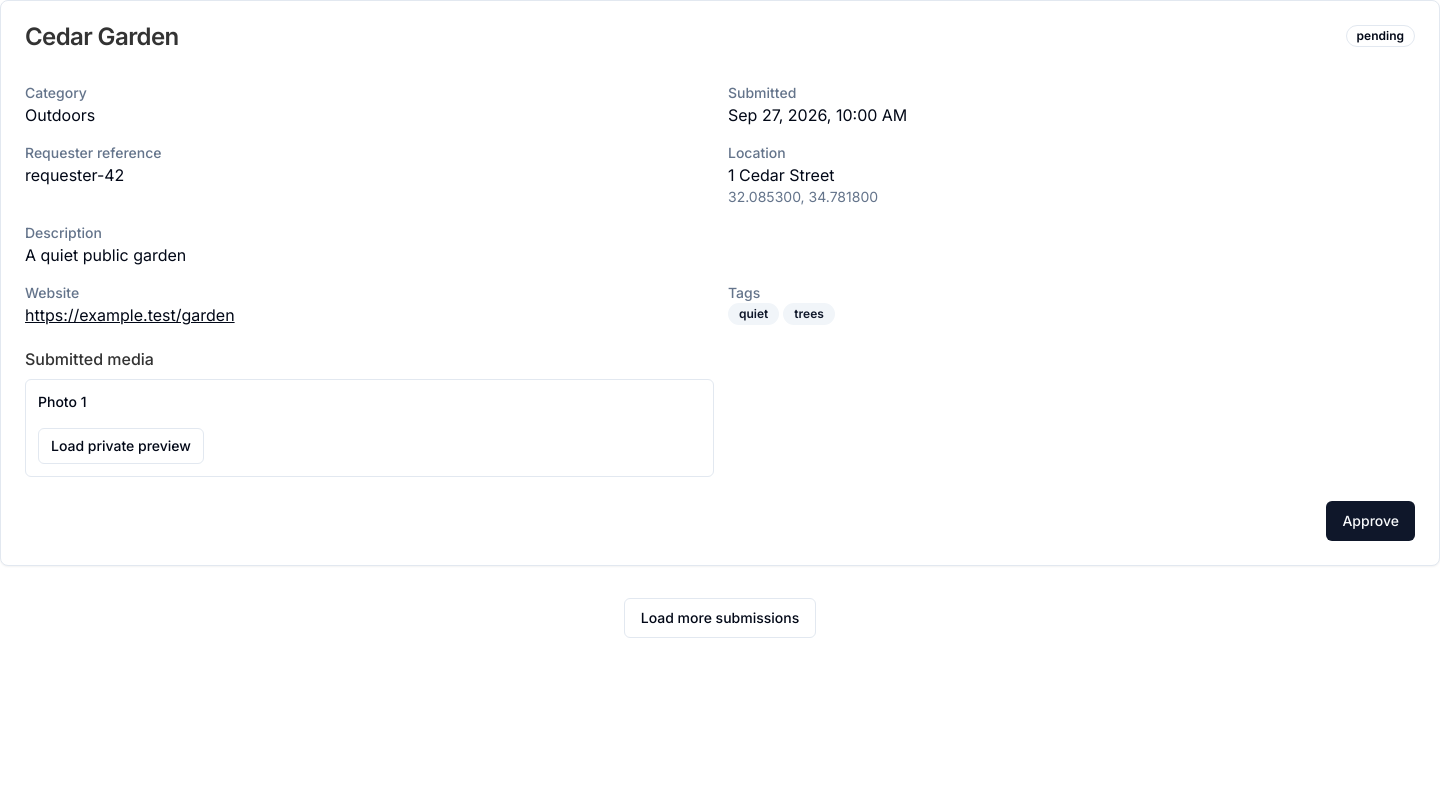
Test: loads bounded pages once and reports the end without duplicate rows
The image size is (1440, 810).
Step 1. Click the button "Load more submissions" → (720, 618), box x1=624 y1=598 x2=816 y2=638
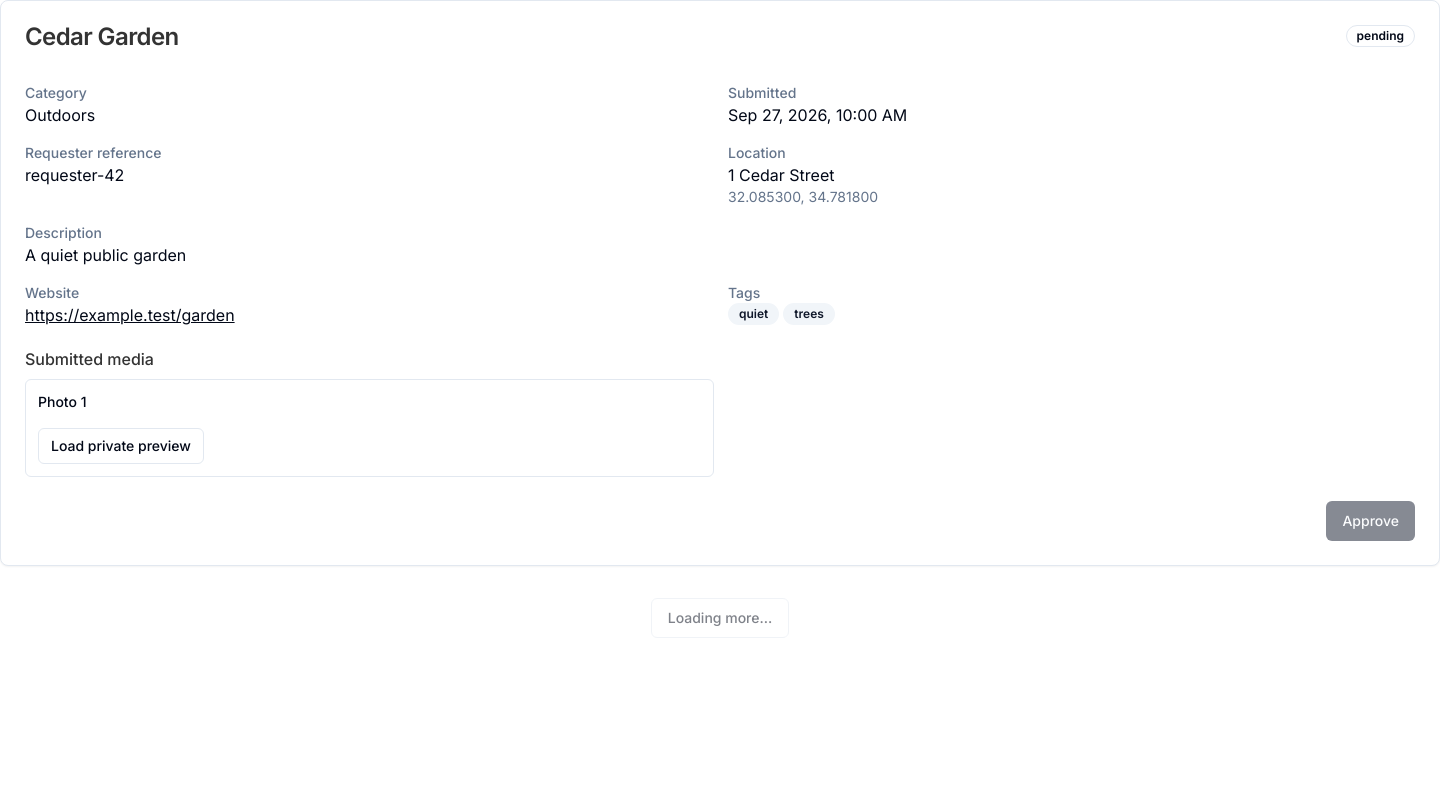
Step 2. Click the button named "Load more submissions" → (720, 618), box x1=651 y1=598 x2=789 y2=638
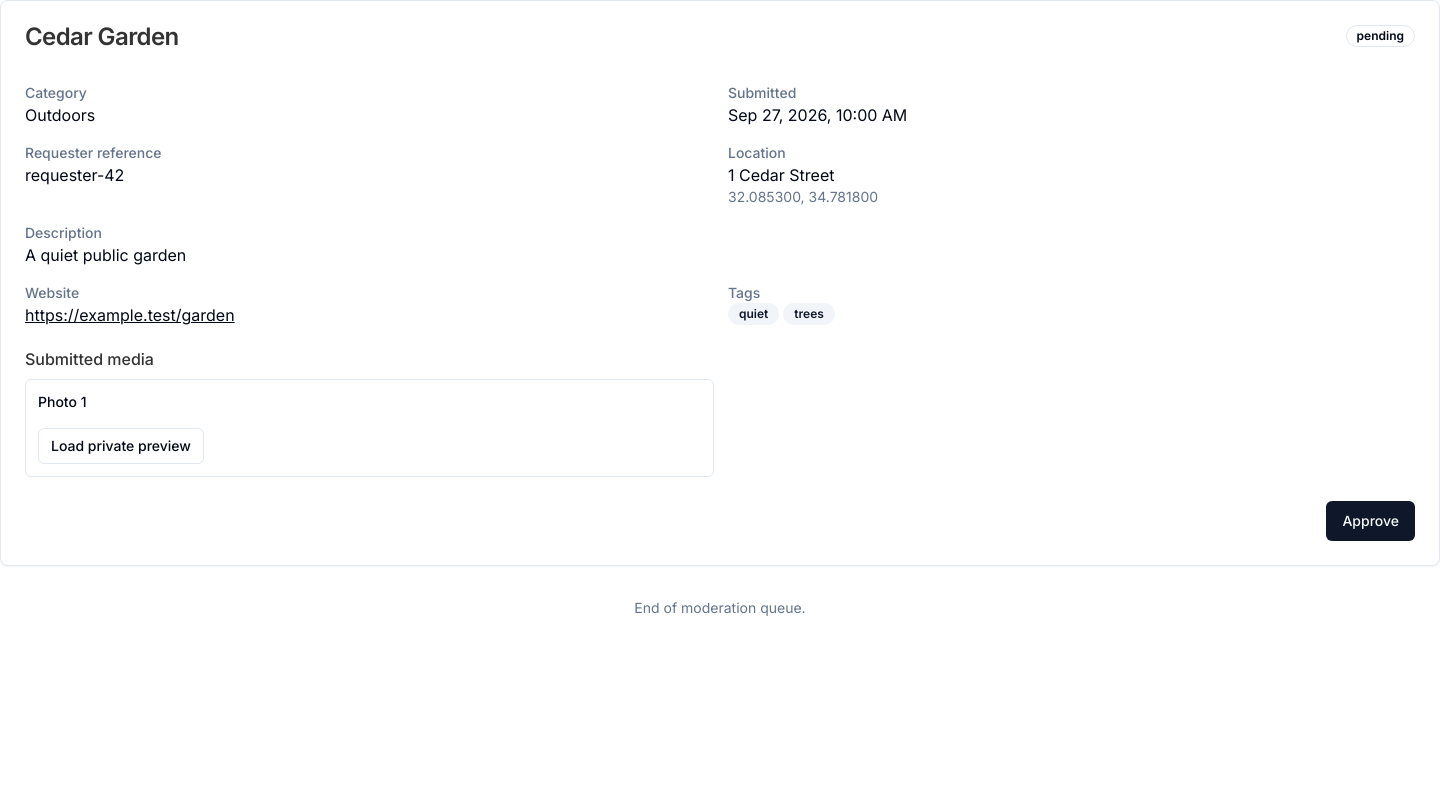
Expected: the number of headings "Cedar Garden" is 1, x1=25 y1=25 x2=179 y2=49
Expected: the text "End of moderation queue." is shown, x1=634 y1=598 x2=806 y2=618
